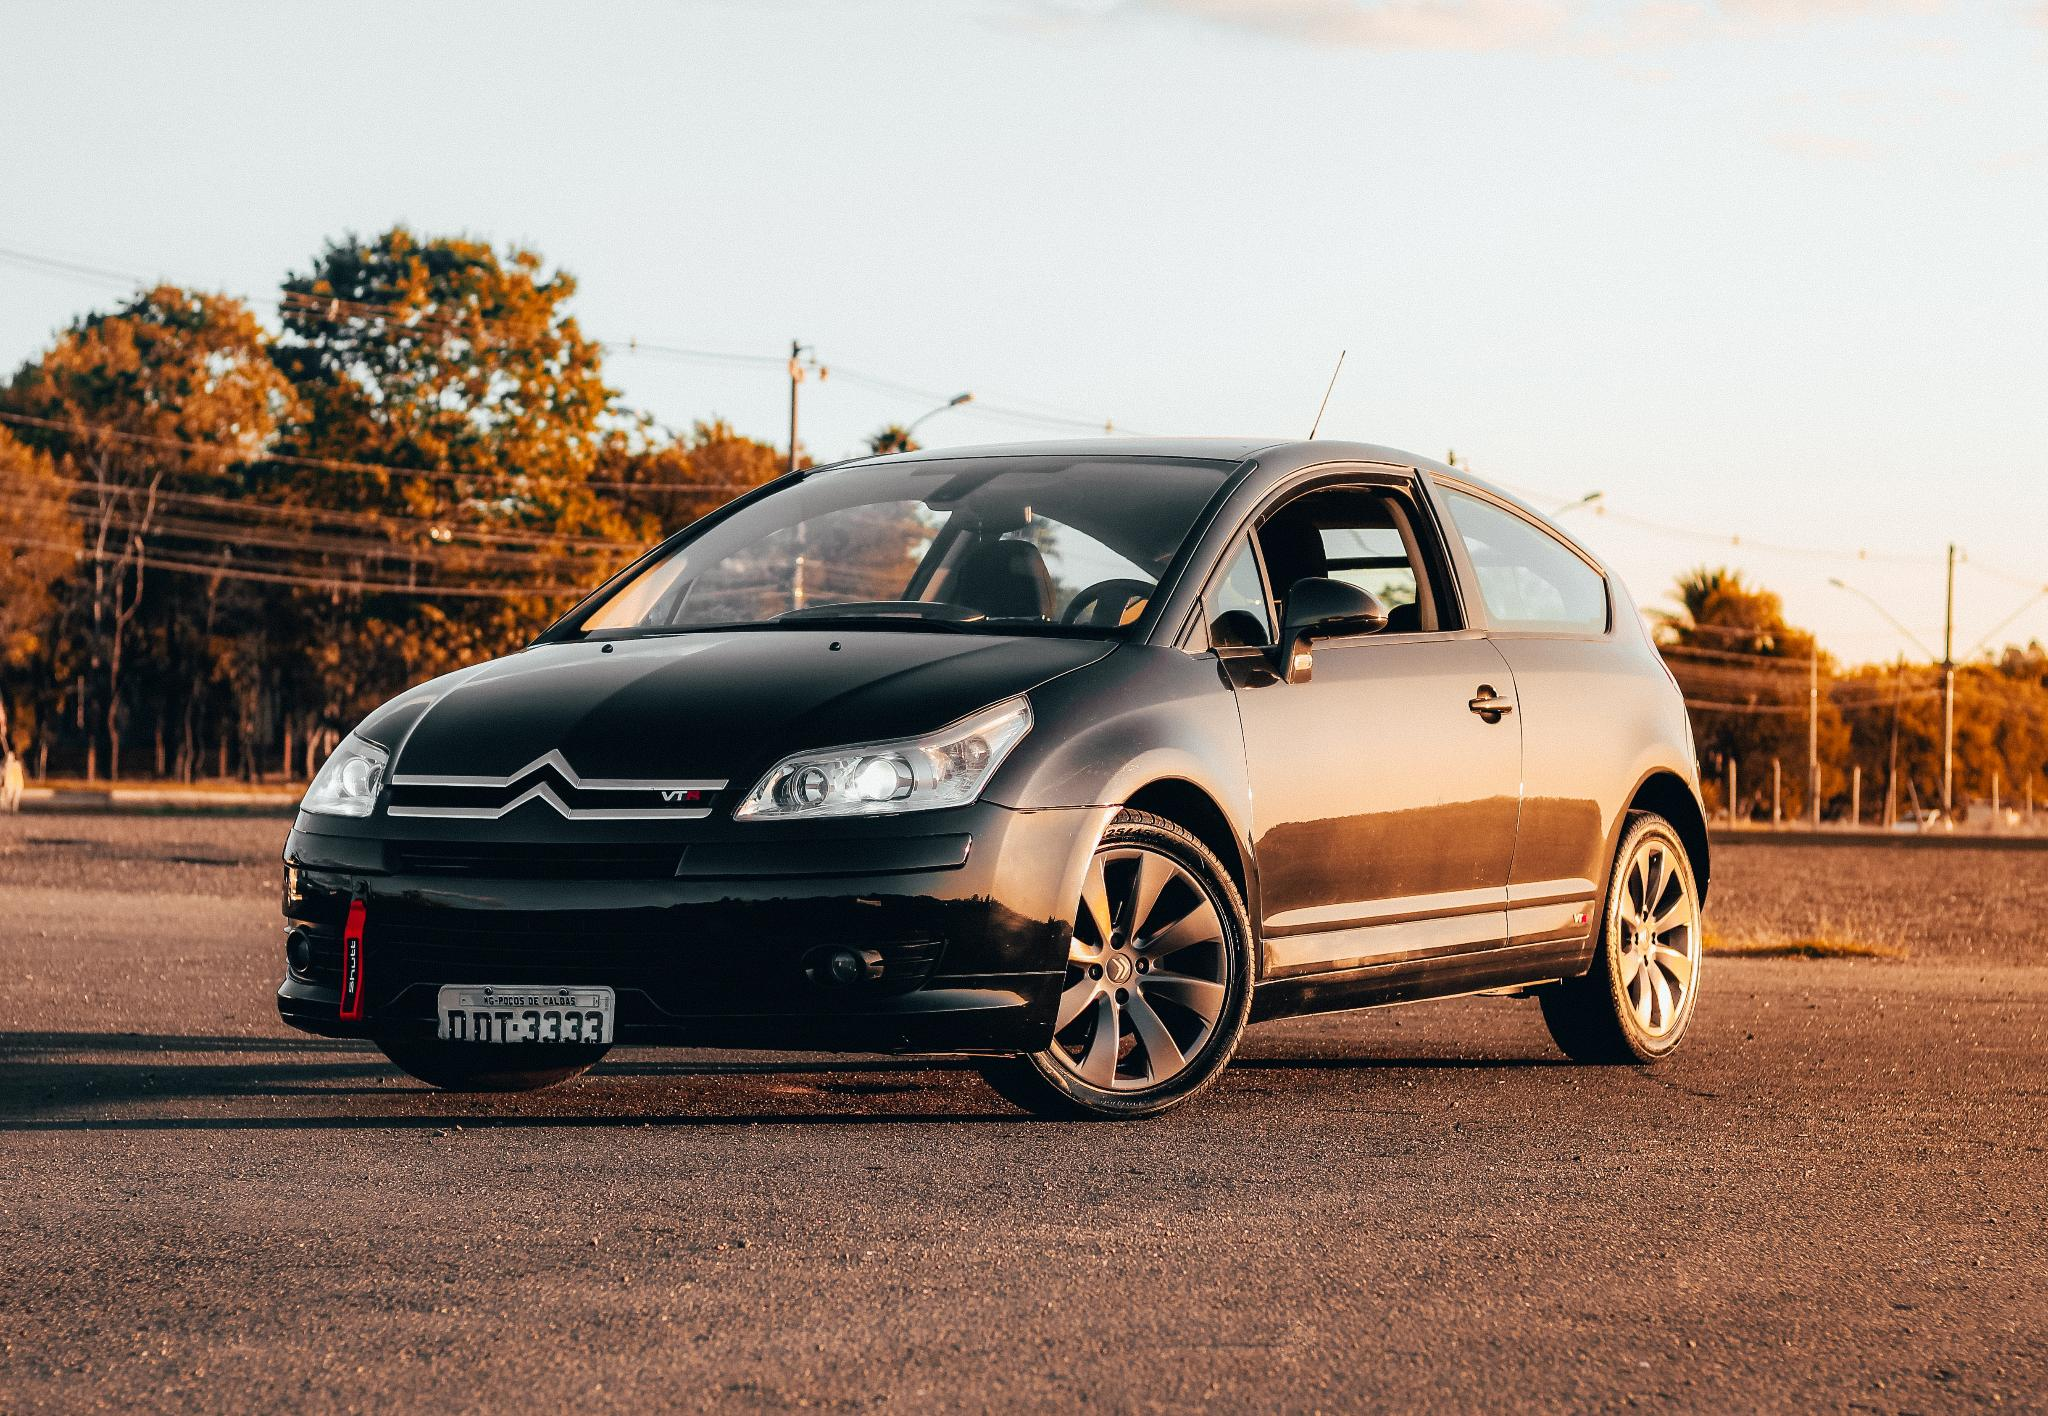Citroen: (487, 727, 604, 850)
